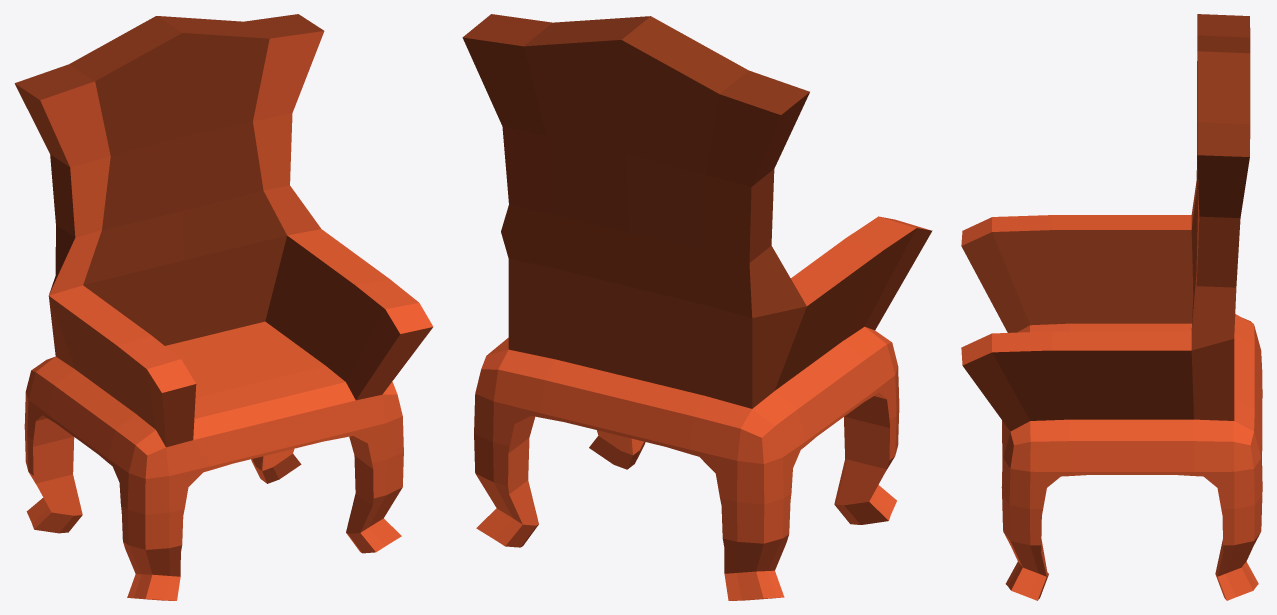
The model's file is throne.fbx.
3 views of the same model, side by side, from view 1: azimuth 30°, elevation 25°; view 2: azimuth 150°, elevation 25°; view 3: azimuth 270°, elevation 25° (orthographic). The views are drawn at different scales.
Visible parts, largest first — view 1: throne; view 2: throne; view 3: throne.
Part boxes in pixels (left/top/right/bottom): throne: left=14, top=14, right=433, bottom=600; throne: left=462, top=14, right=932, bottom=600; throne: left=961, top=14, right=1262, bottom=600.
Size of the model in its own units: 604 by 986 by 544.
1 material, 1 textured.
